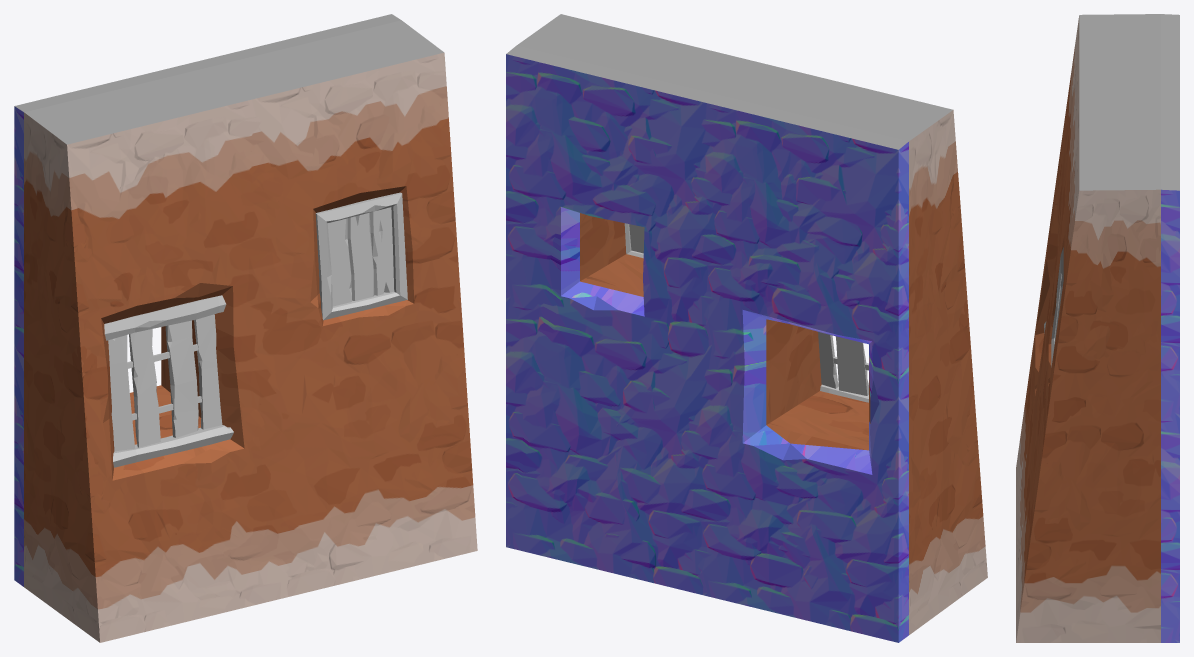
Rendered from SM_Bld_Wall_Ground_Window_04.fbx.
3 renders of one model, left to right at view 1: azimuth 30°, elevation 25°; view 2: azimuth 150°, elevation 25°; view 3: azimuth 270°, elevation 25°, orthographic. The views are drawn at different scales.
Visible parts, largest first — view 1: SM_Bld_Wall_Ground_Window_04; view 2: SM_Bld_Wall_Ground_Window_04; view 3: SM_Bld_Wall_Ground_Window_04.
Part boxes in pixels (bbox=[...]): SM_Bld_Wall_Ground_Window_04: bbox=[14, 14, 477, 642]; SM_Bld_Wall_Ground_Window_04: bbox=[506, 14, 987, 642]; SM_Bld_Wall_Ground_Window_04: bbox=[1016, 14, 1179, 642].
Size of the model in its own units: 250 by 301 by 98.39.
